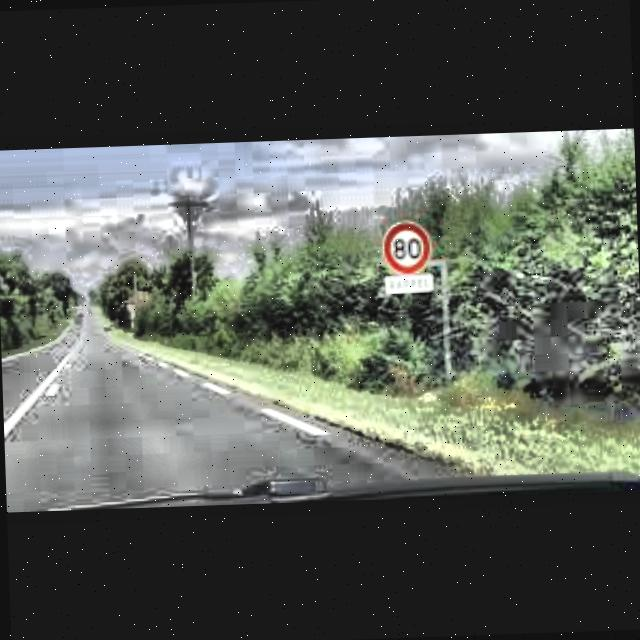speed_80: (380, 220, 432, 276)
